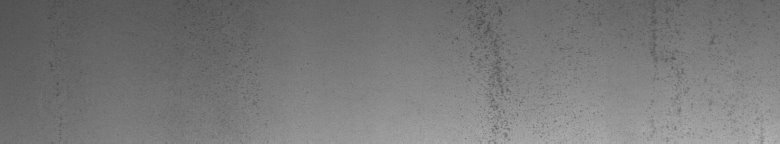ib: (452, 4, 579, 136)
